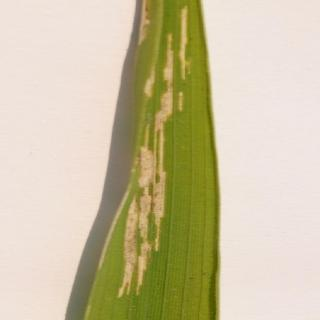Hawar-Daun: (113, 2, 192, 294)
